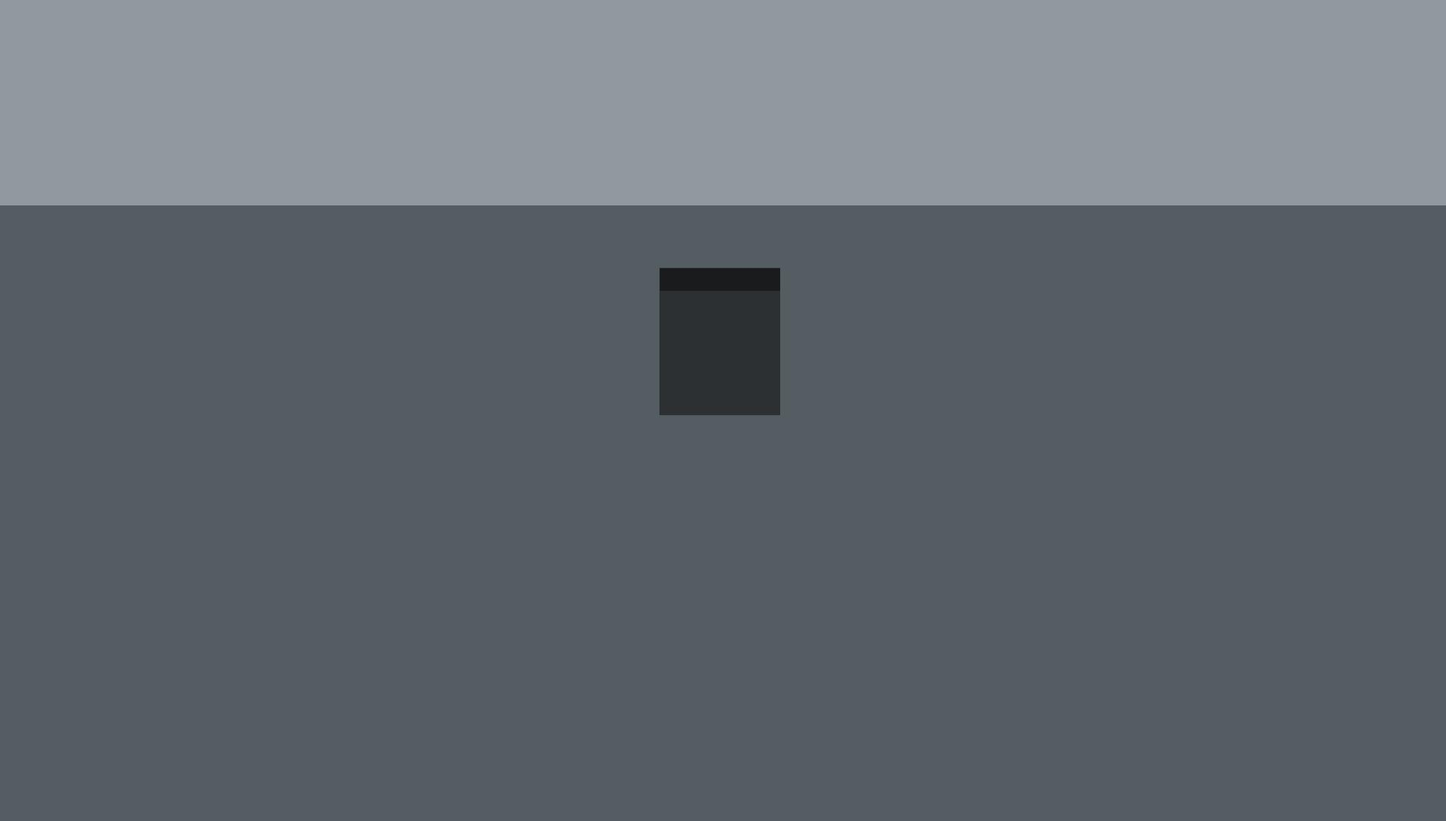garbage container: (658, 265, 783, 419)
